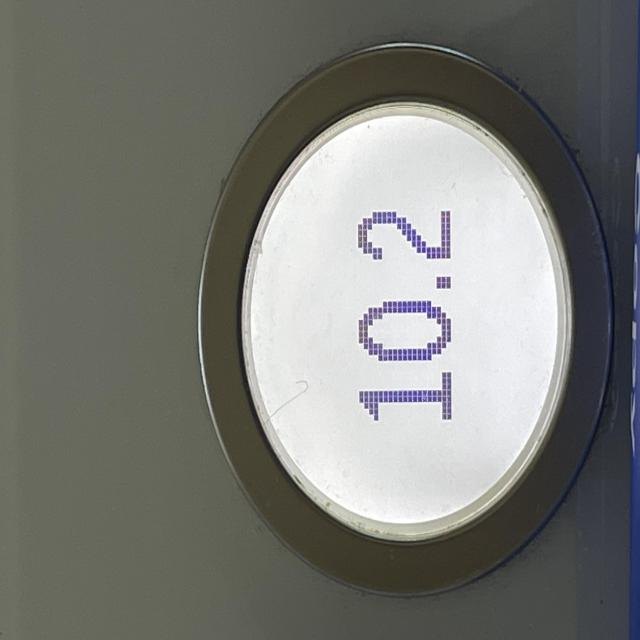ws: (197, 46, 586, 598)
